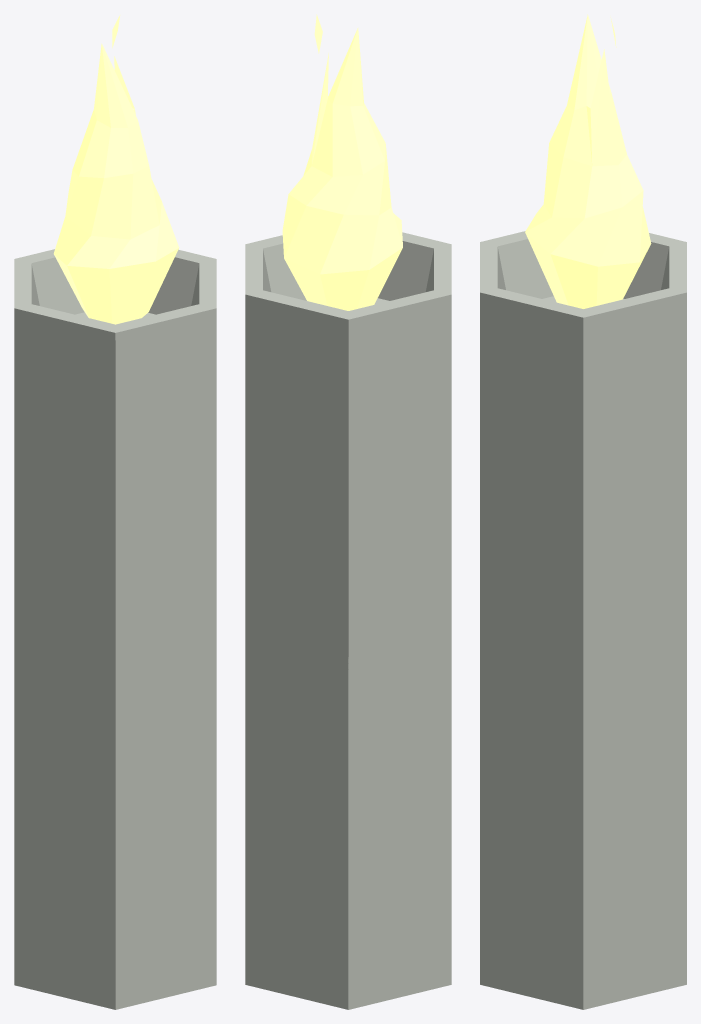
The model's file is candle_1.fbx.
3 renders of one model, left to right at view 1: azimuth 30°, elevation 25°; view 2: azimuth 150°, elevation 25°; view 3: azimuth 270°, elevation 25°, orthographic. The views are drawn at different scales.
Parts seen in each view (by area): view 1: candle_1; view 2: candle_1; view 3: candle_1.
Part boxes in pixels (x1,y1,x2,y2): candle_1: (14, 15, 216, 1009); candle_1: (245, 14, 451, 1009); candle_1: (480, 14, 686, 1009).
Size of the model in its own units: 13.22 by 58.28 by 11.45.
